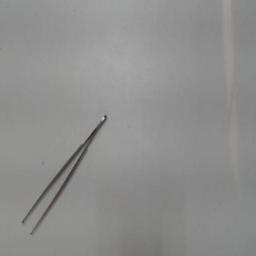Gillies Toothed Dissector: (14, 110, 114, 244)
